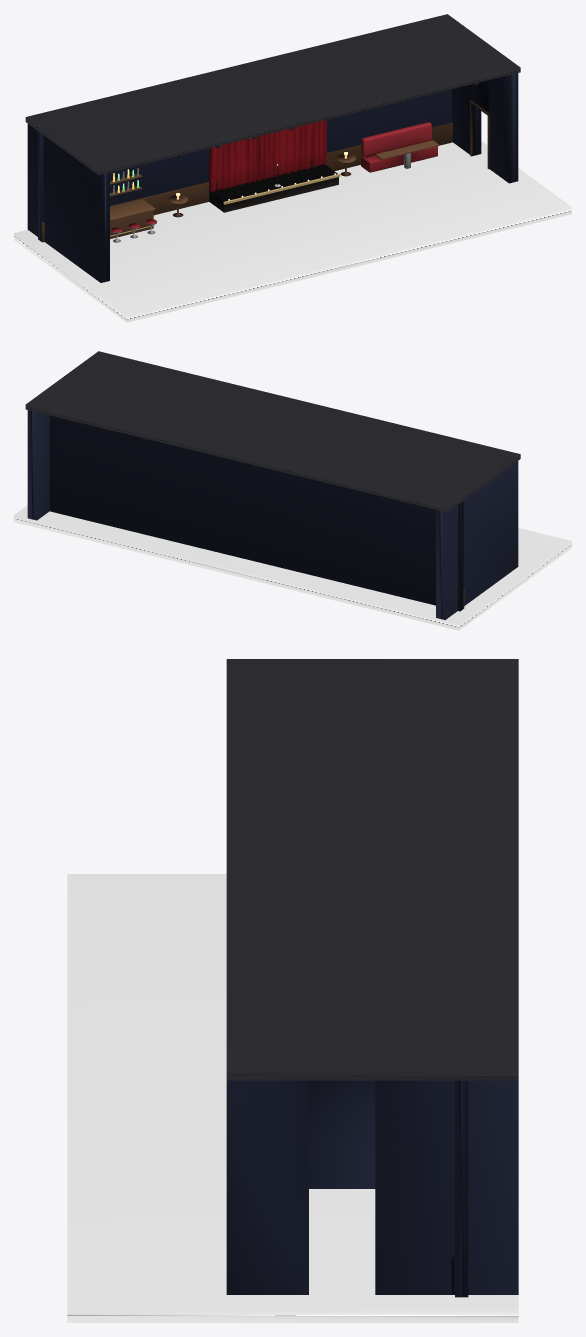
Rendered from roadhouse.glb.
3 renders of one model, top to bottom at view 1: azimuth 30°, elevation 25°; view 2: azimuth 150°, elevation 25°; view 3: azimuth 270°, elevation 25°, orthographic. The views are drawn at different scales.
Visible parts, largest first — view 1: Floor, Ceiling, Wall • left, Wall • back, Stage curtain, Wall • right b, Stage, Wainscot, Wall • right a, Booth back, Booth seat, Bar • body (+4 smaller); view 2: Wall • back, Ceiling, Floor, Wall • left, Wall • right a; view 3: Ceiling, Floor, Wall • right a, Wall • right b, Wall • over door, Wall • back.
Boxes of the visible parts, <box> form: Floor: <box>14,141,571,322</box>; Ceiling: <box>25,14,520,175</box>; Wall • left: <box>27,124,109,282</box>; Wall • back: <box>38,89,451,241</box>; Stage curtain: <box>209,120,326,191</box>; Wall • right b: <box>488,73,518,183</box>; Stage: <box>209,164,338,212</box>; Wainscot: <box>41,122,452,242</box>; Wall • right a: <box>452,84,481,156</box>; Booth back: <box>361,122,431,156</box>; Booth seat: <box>361,146,437,172</box>; Bar • body: <box>110,210,153,238</box>; Wall • back: <box>49,415,463,611</box>; Ceiling: <box>25,351,520,512</box>; Floor: <box>14,505,571,630</box>; Wall • left: <box>436,461,518,619</box>; Wall • right a: <box>27,410,49,520</box>; Ceiling: <box>226,659,518,1080</box>; Floor: <box>67,874,518,1322</box>; Wall • right a: <box>375,1080,518,1294</box>; Wall • right b: <box>226,1080,308,1294</box>; Wall • over door: <box>309,1080,375,1188</box>; Wall • back: <box>455,1080,468,1297</box>.
Size of the model in its own units: 38.7 by 10 by 17.
